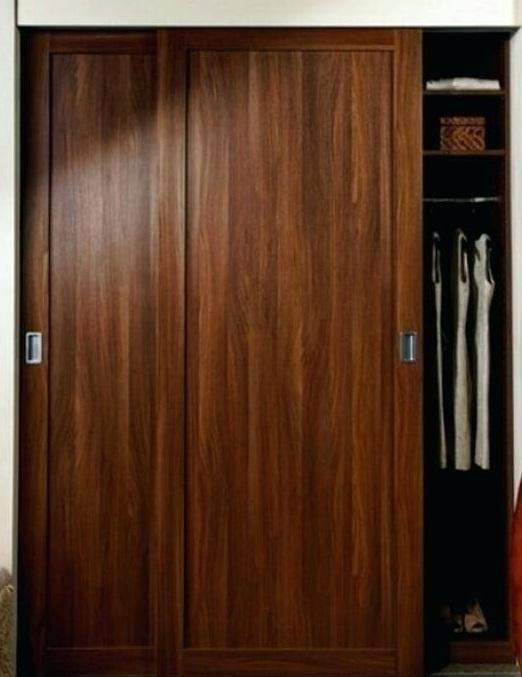Armario: (22, 18, 517, 671)
